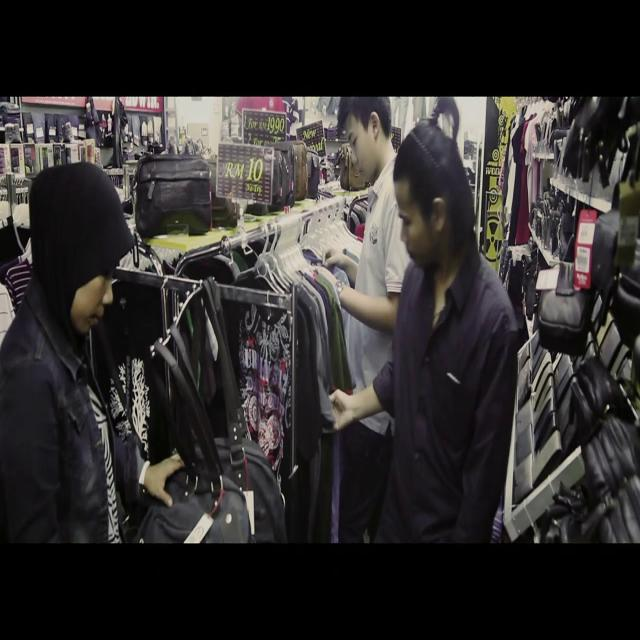normal: (306, 99, 537, 548), (0, 135, 247, 547), (319, 92, 406, 262)
